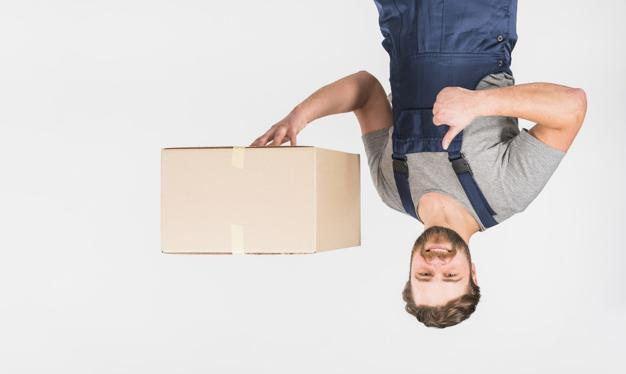thumbsdown: (432, 87, 464, 151)
